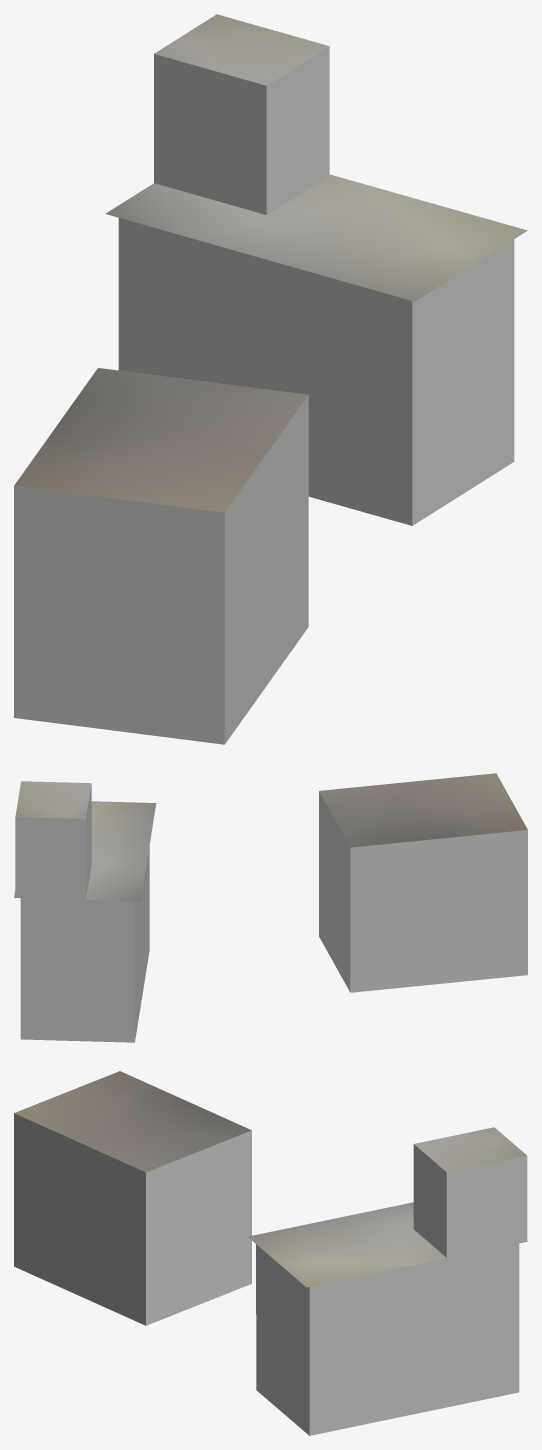
The model's file is LSGG_0_1.glb.
The picture shows the model from 3 angles, top to bottom: view 1: azimuth 30°, elevation 25°; view 2: azimuth 150°, elevation 25°; view 3: azimuth 270°, elevation 25°; orthographic projection. The views are drawn at different scales.
Visible parts, largest first — view 1: building_a7b5360fe5879b0f, building_2b28448e49e82069; view 2: building_a7b5360fe5879b0f, building_2b28448e49e82069; view 3: building_a7b5360fe5879b0f, building_2b28448e49e82069.
Part boxes in pixels (x1,y1,x2,y2): building_a7b5360fe5879b0f: (14, 46, 514, 744); building_2b28448e49e82069: (14, 14, 527, 512); building_a7b5360fe5879b0f: (15, 785, 527, 1042); building_2b28448e49e82069: (14, 773, 527, 901); building_a7b5360fe5879b0f: (14, 1113, 527, 1435); building_2b28448e49e82069: (14, 1071, 527, 1287).
Size of the model in its own units: 19.35 by 10.14 by 19.89.
Materials: 2 (1 with a texture image).
